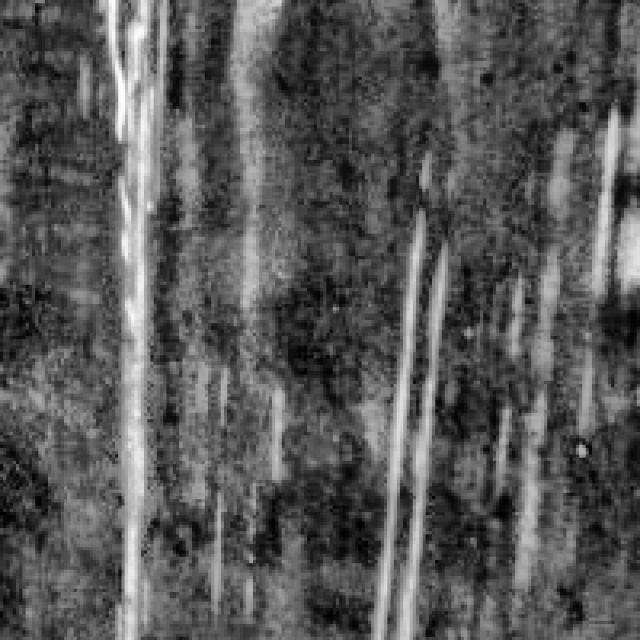Inclusion: (86, 0, 166, 634), (362, 150, 448, 637)
